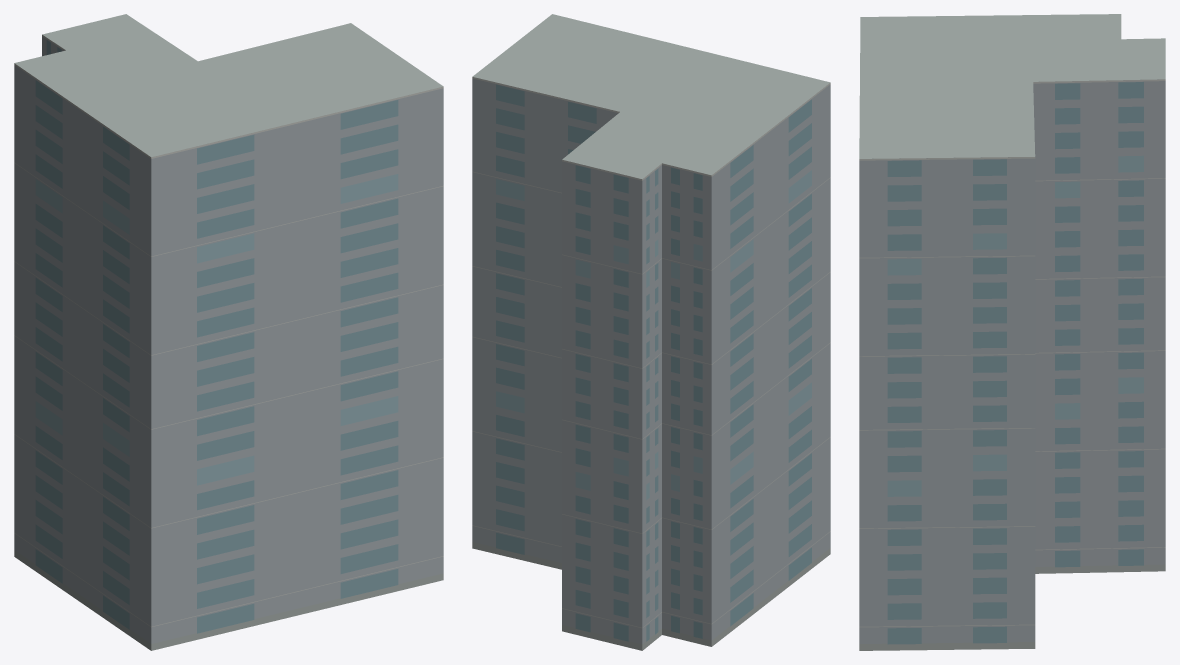
The model's file is survey-upis-32466858.glb.
3 views of the same model, side by side, from view 1: azimuth 30°, elevation 25°; view 2: azimuth 150°, elevation 25°; view 3: azimuth 270°, elevation 25° (orthographic). The views are drawn at different scales.
Visible parts, largest first — view 1: survey-upis-32466858.tmp; view 2: survey-upis-32466858.tmp; view 3: survey-upis-32466858.tmp.
Part boxes in pixels (<box>): survey-upis-32466858.tmp: <box>14,14,443,650</box>; survey-upis-32466858.tmp: <box>472,14,830,650</box>; survey-upis-32466858.tmp: <box>859,14,1165,650</box>.
Bounding box in the file's own units: 44.22 × 69.93 × 39.49.
